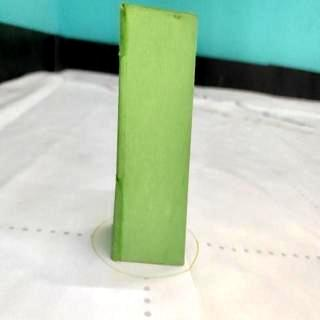greenbox: (112, 2, 200, 266)
